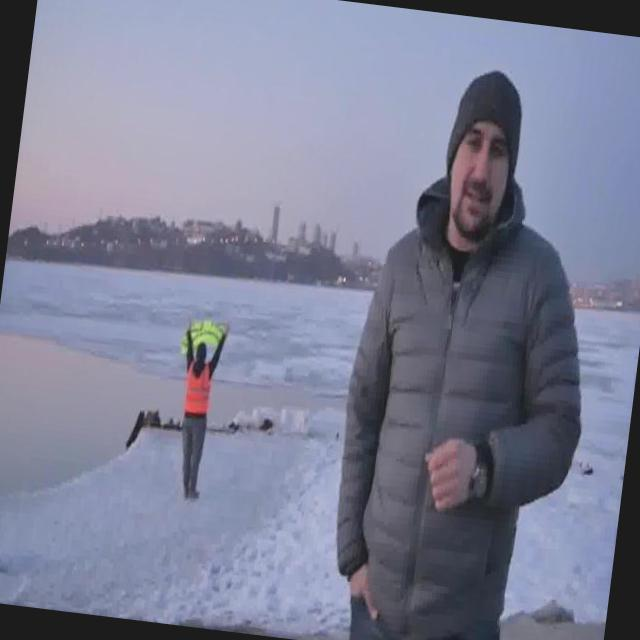vest: (180, 317, 230, 361), (181, 358, 215, 416)
